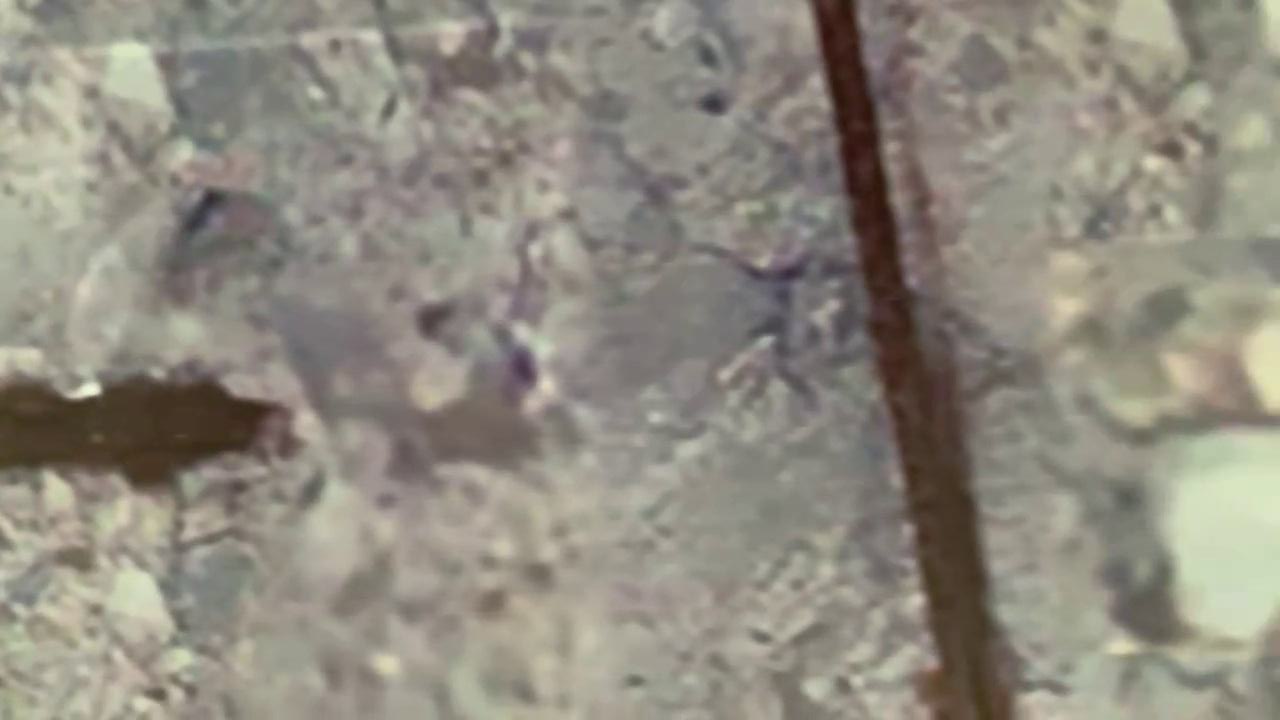Exposed reinforcement: (806, 1, 1019, 720), (1, 369, 286, 492)
